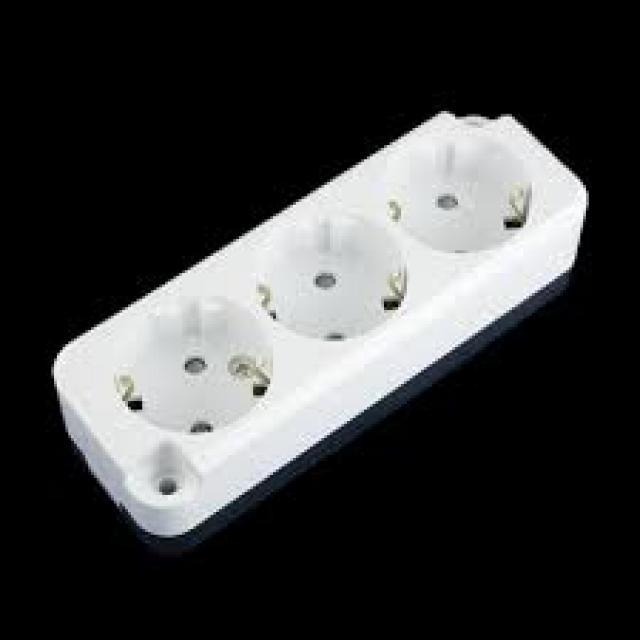typeb: (19, 90, 614, 572)
